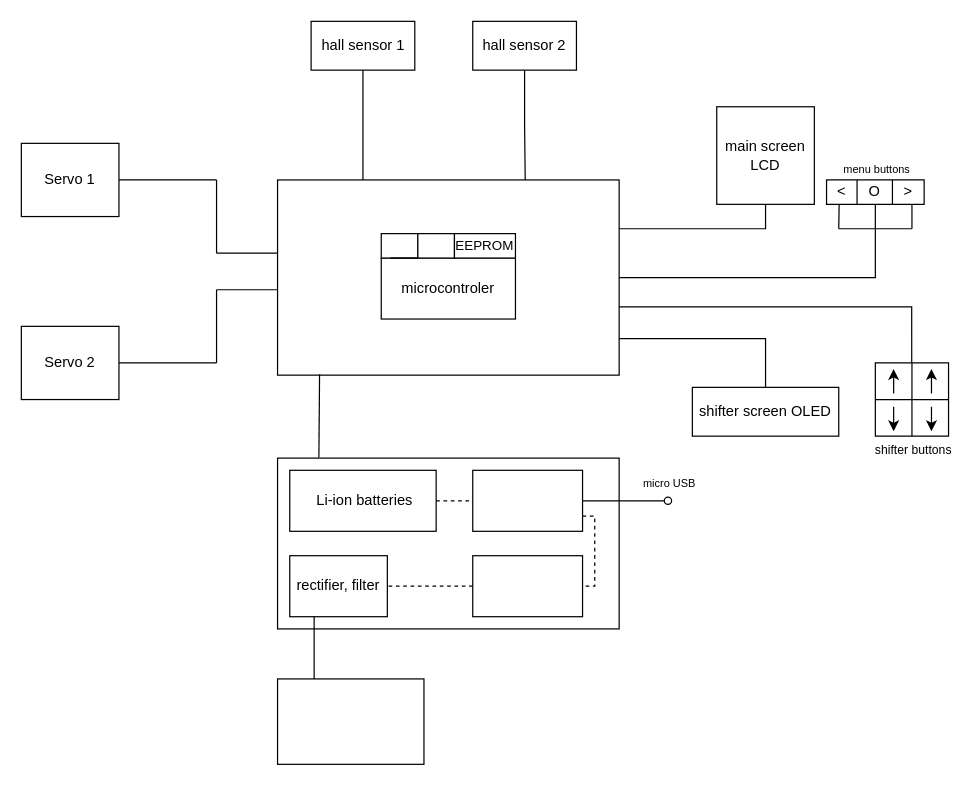
Image size: 978x786. Some labels were removed from this diagram. Here are the shapes that lost their labels. From the top down, the centre of each, then its label:
(x=399, y=245): SD
(x=435, y=245): RTC
(x=527, y=500): charger unit
(x=527, y=585): step down converter
(x=350, y=721): dynamo
